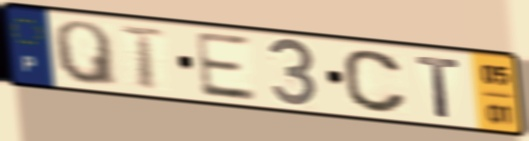3: (265, 35, 322, 112)
C: (339, 47, 411, 116)
E: (191, 28, 261, 103)
Q: (50, 18, 121, 90)
T: (117, 23, 170, 93), (413, 53, 464, 121)
